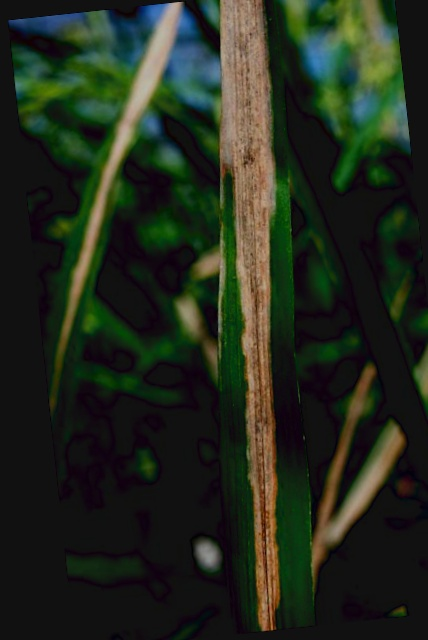Leaf_Blast: (226, 0, 272, 629)
